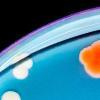orange: (77, 38, 100, 80)
white: (10, 60, 34, 81), (0, 88, 24, 100)
